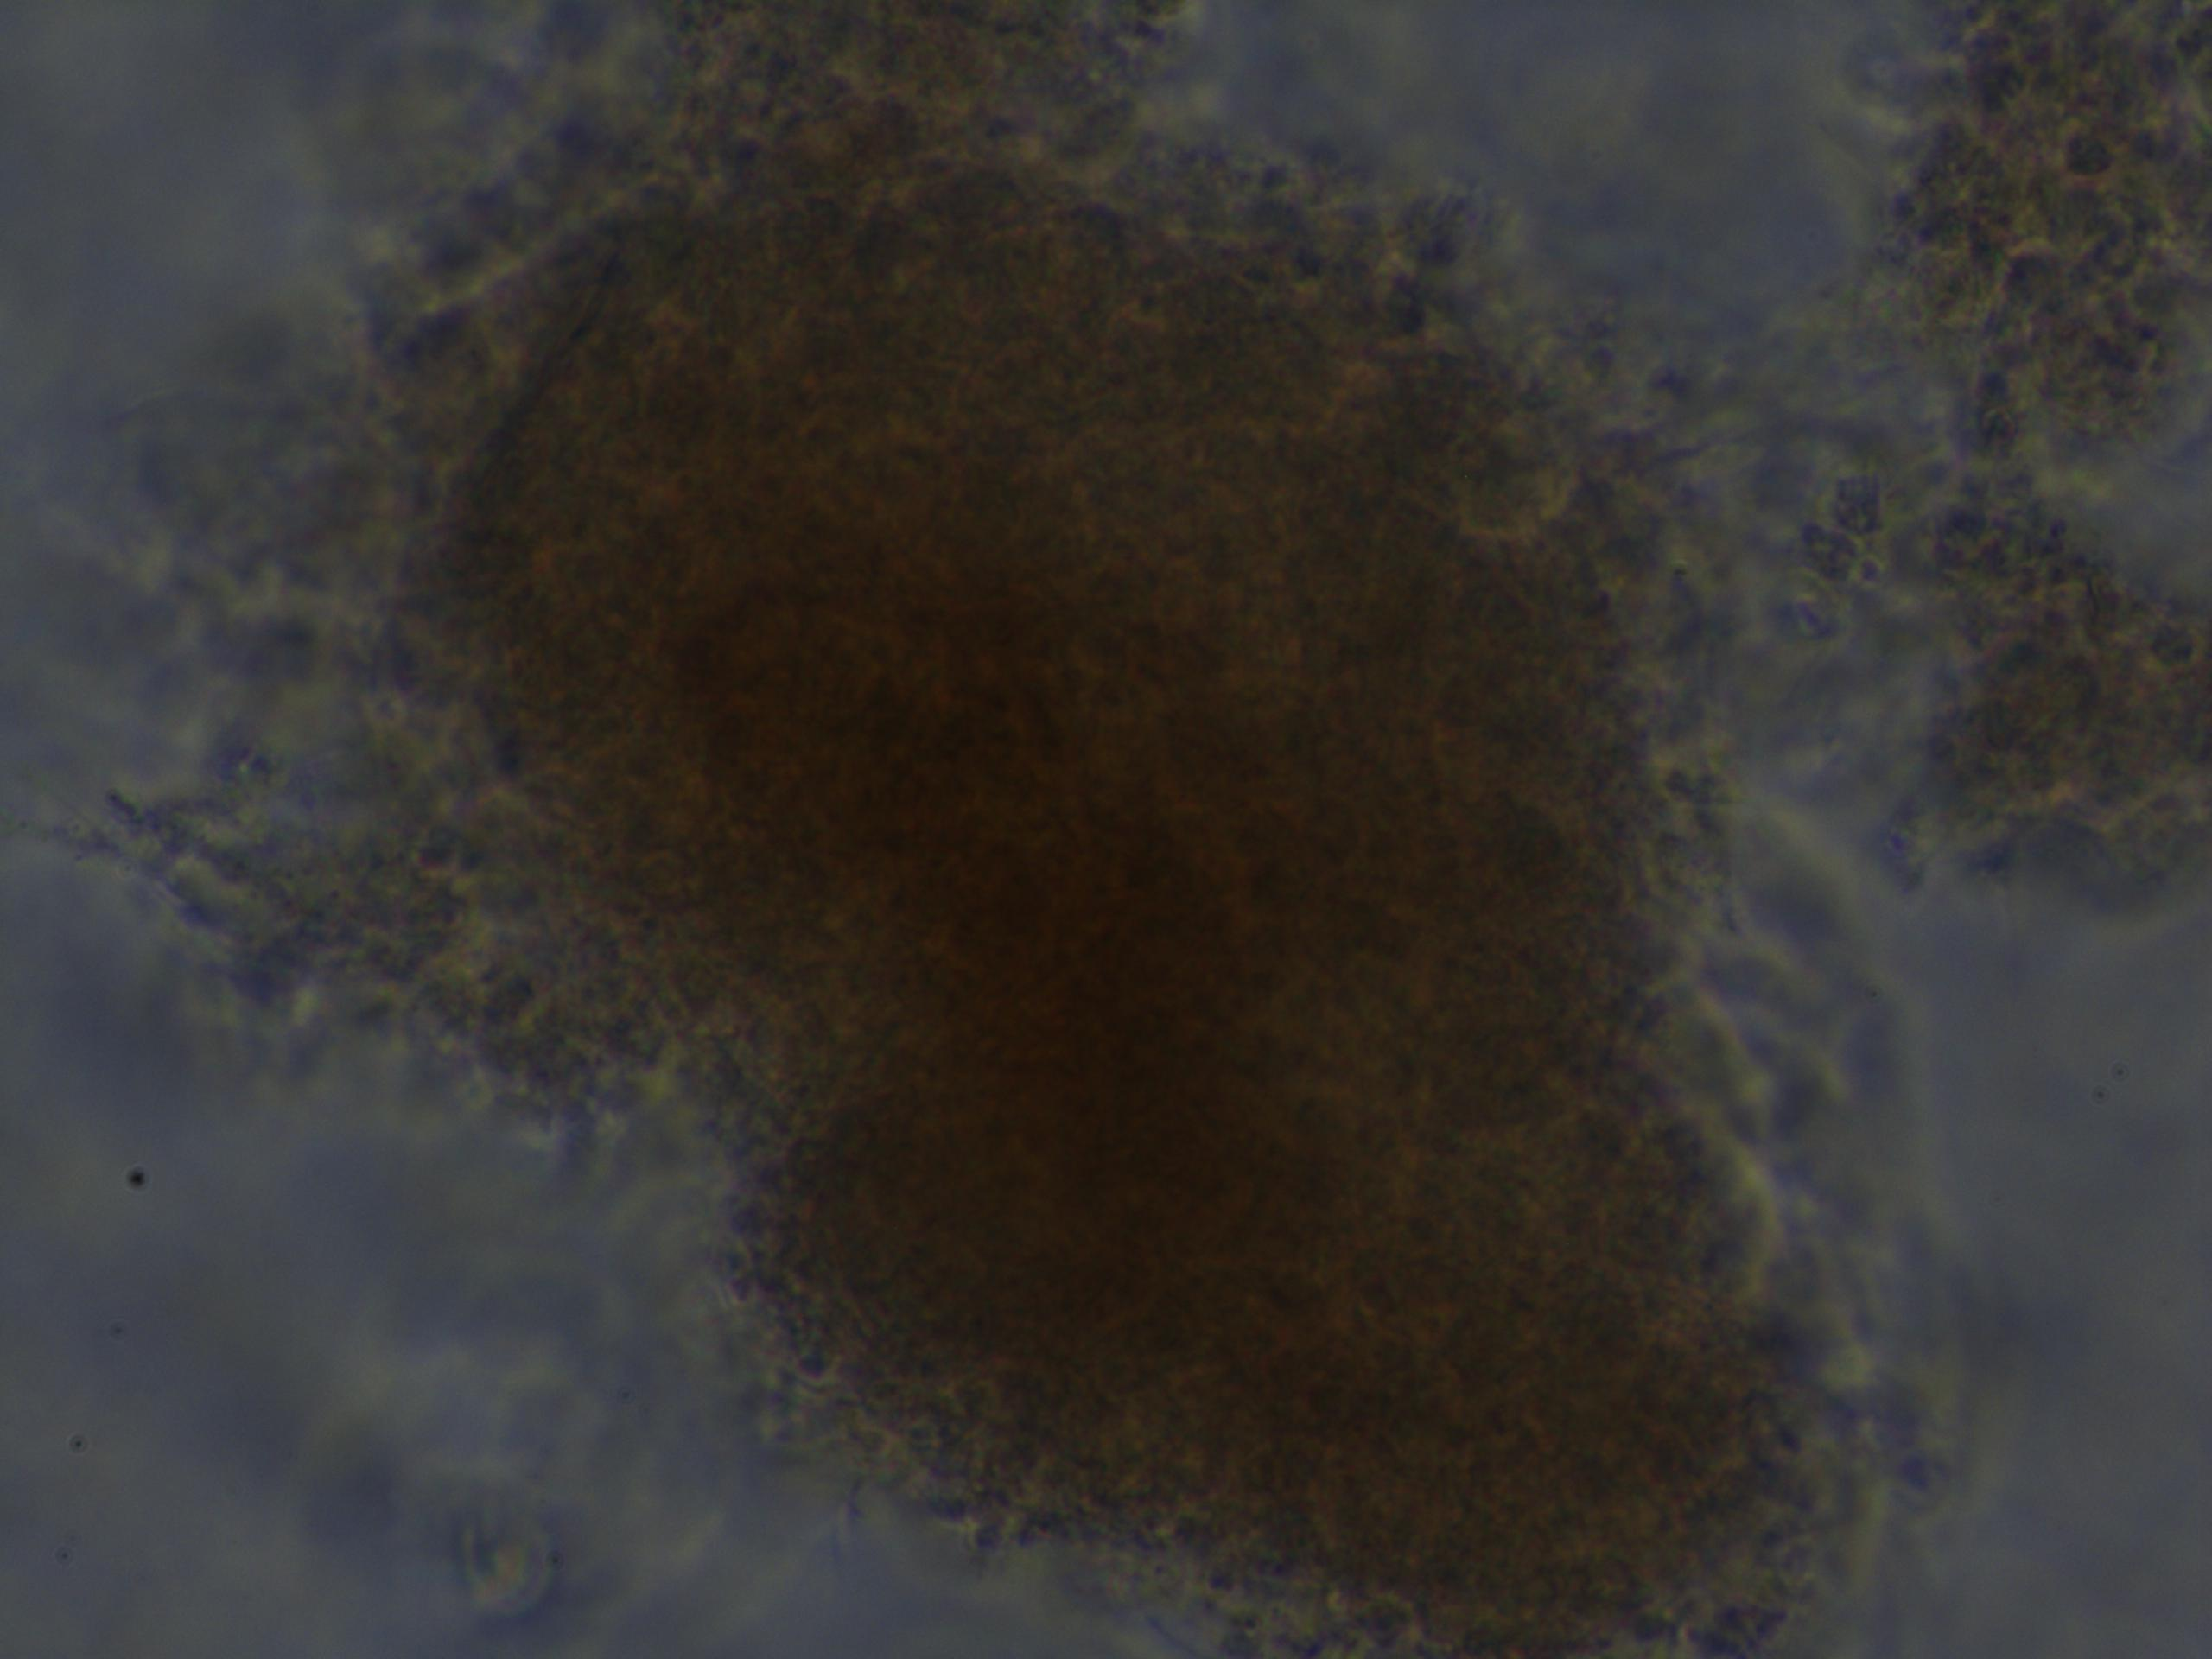filament: (71, 795, 566, 1136)
spherical_floc: (369, 5, 1874, 1659)
